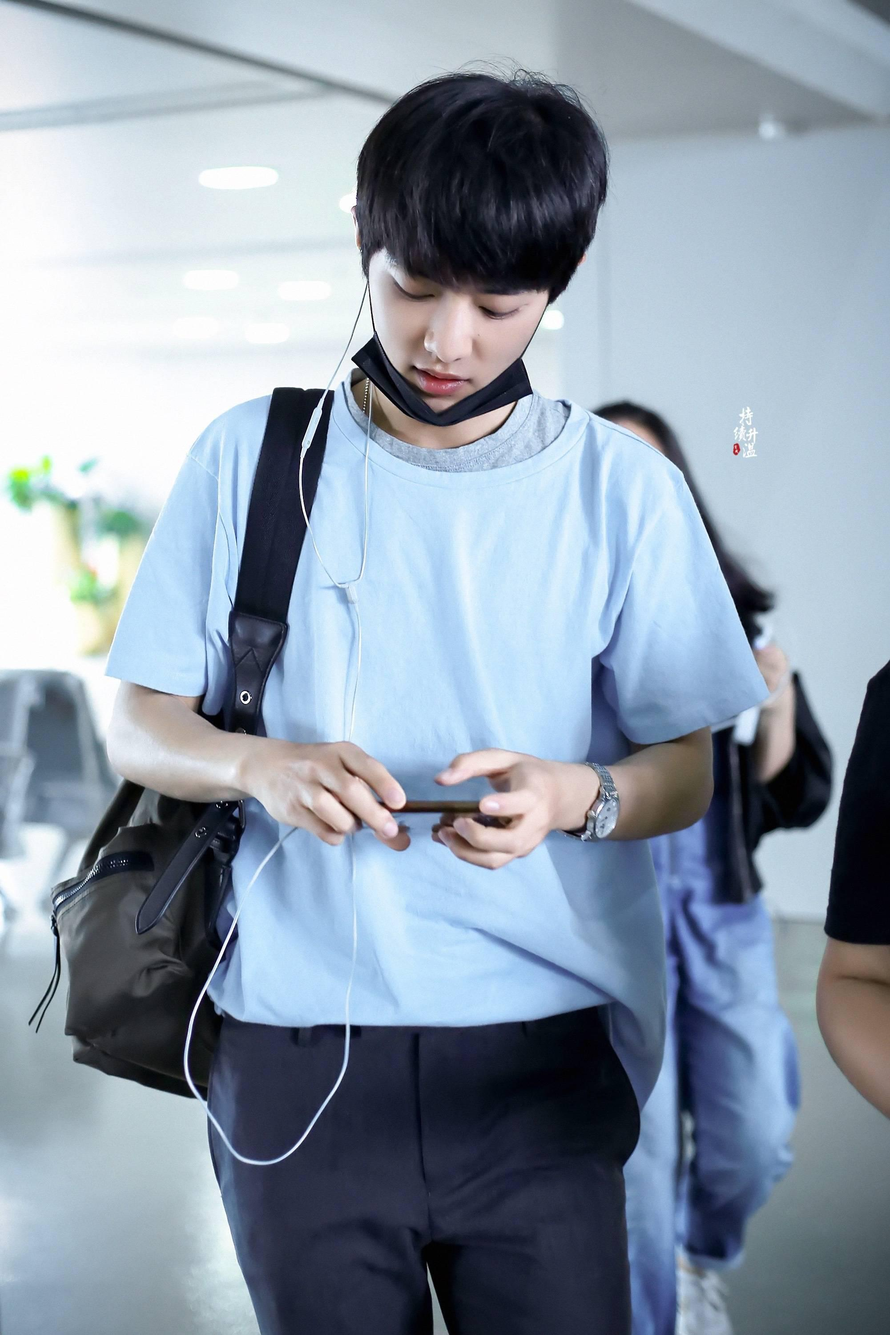WRONG: (369, 243, 546, 422)
